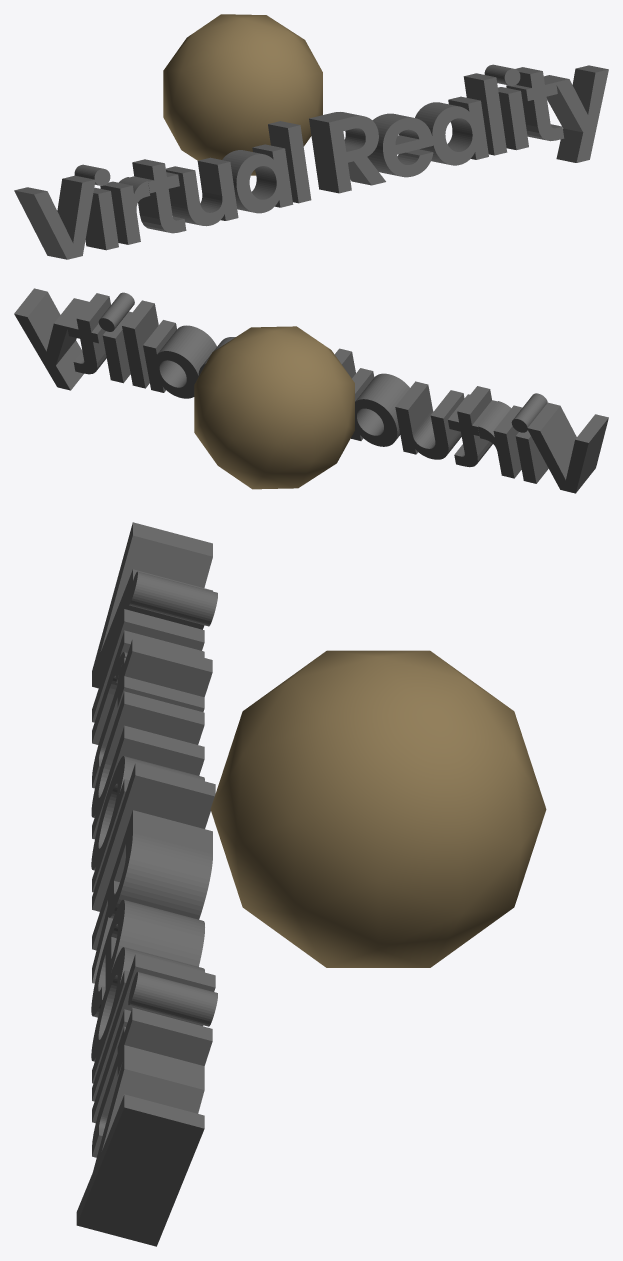
The model's file is VR-demo-1.obj.
The picture shows the model from 3 angles, top to bottom: view 1: azimuth 30°, elevation 25°; view 2: azimuth 150°, elevation 25°; view 3: azimuth 270°, elevation 25°; orthographic projection. The views are drawn at different scales.
Visible parts, largest first — view 1: 000_Polyhedron, 008_3D_Text_-_R, 001_3D_Text_-_V, 014_3D_Text_-_y, 005_3D_Text_-_u, 010_3D_Text_-_a, 006_3D_Text_-_a, 009_3D_Text_-_e, 004_3D_Text_-_t, 013_3D_Text_-_t, 002_3D_Text_-_i, 012_3D_Text_-_i (+3 smaller); view 2: 000_Polyhedron, 001_3D_Text_-_V, 014_3D_Text_-_y, 010_3D_Text_-_a, 005_3D_Text_-_u, 006_3D_Text_-_a, 004_3D_Text_-_t, 013_3D_Text_-_t, 003_3D_Text_-_r, 012_3D_Text_-_i, 011_3D_Text_-_l, 002_3D_Text_-_i (+1 smaller); view 3: 000_Polyhedron, 014_3D_Text_-_y, 008_3D_Text_-_R, 005_3D_Text_-_u, 001_3D_Text_-_V, 002_3D_Text_-_i, 004_3D_Text_-_t, 007_3D_Text_-_l, 009_3D_Text_-_e, 013_3D_Text_-_t, 012_3D_Text_-_i, 011_3D_Text_-_l (+3 smaller).
Boxes of the visible parts, x1,y1,x2,y2 form: 000_Polyhedron: [163, 14, 322, 175]; 008_3D_Text_-_R: [309, 112, 385, 193]; 001_3D_Text_-_V: [14, 175, 95, 259]; 014_3D_Text_-_y: [543, 65, 608, 162]; 005_3D_Text_-_u: [166, 157, 238, 226]; 010_3D_Text_-_a: [415, 96, 488, 165]; 006_3D_Text_-_a: [222, 144, 293, 213]; 009_3D_Text_-_e: [367, 113, 433, 177]; 004_3D_Text_-_t: [130, 159, 186, 233]; 013_3D_Text_-_t: [506, 67, 564, 141]; 002_3D_Text_-_i: [74, 164, 118, 250]; 012_3D_Text_-_i: [484, 64, 528, 150]; 000_Polyhedron: [194, 326, 354, 489]; 001_3D_Text_-_V: [527, 402, 608, 493]; 014_3D_Text_-_y: [14, 288, 87, 390]; 010_3D_Text_-_a: [143, 320, 216, 398]; 005_3D_Text_-_u: [395, 381, 464, 459]; 006_3D_Text_-_a: [350, 368, 409, 446]; 004_3D_Text_-_t: [448, 386, 497, 467]; 013_3D_Text_-_t: [67, 293, 110, 374]; 003_3D_Text_-_r: [478, 401, 522, 478]; 012_3D_Text_-_i: [98, 292, 134, 383]; 011_3D_Text_-_l: [122, 300, 158, 388]; 002_3D_Text_-_i: [511, 393, 548, 483]; 000_Polyhedron: [210, 650, 546, 967]; 014_3D_Text_-_y: [76, 1055, 204, 1246]; 008_3D_Text_-_R: [92, 810, 212, 983]; 005_3D_Text_-_u: [91, 691, 204, 839]; 001_3D_Text_-_V: [92, 522, 212, 688]; 002_3D_Text_-_i: [92, 571, 217, 722]; 004_3D_Text_-_t: [92, 639, 212, 788]; 007_3D_Text_-_l: [92, 763, 215, 911]; 009_3D_Text_-_e: [91, 899, 204, 1017]; 013_3D_Text_-_t: [92, 1007, 212, 1157]; 012_3D_Text_-_i: [92, 971, 217, 1123]; 011_3D_Text_-_l: [92, 954, 215, 1101].
Bounding box in the file's own units: 348 × 94.36 × 124.
